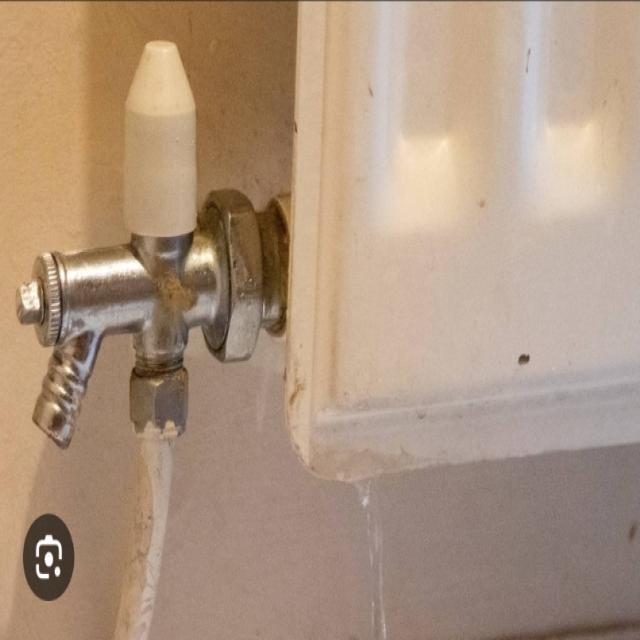leaking_radiator: (273, 366, 469, 640)
radiator: (247, 6, 638, 258)
